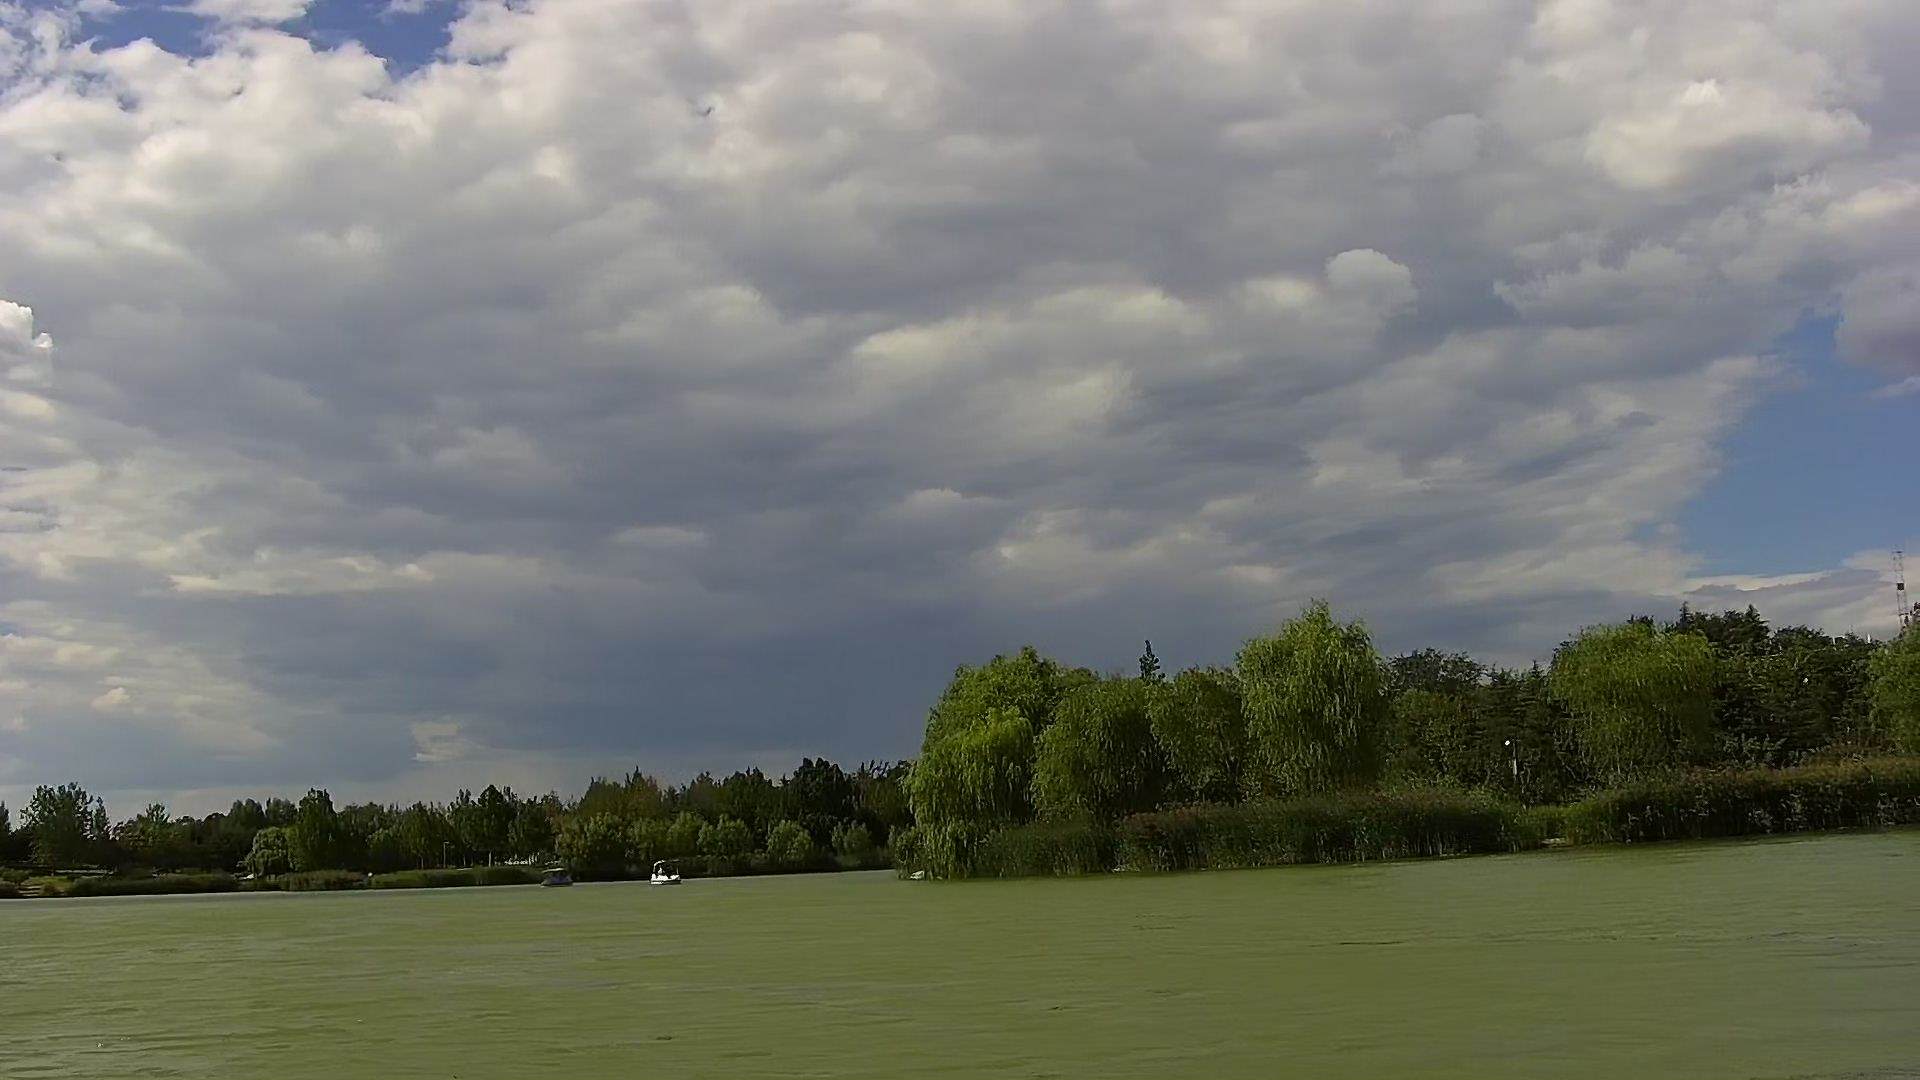boat: (649, 858, 683, 887), (538, 866, 582, 889)
